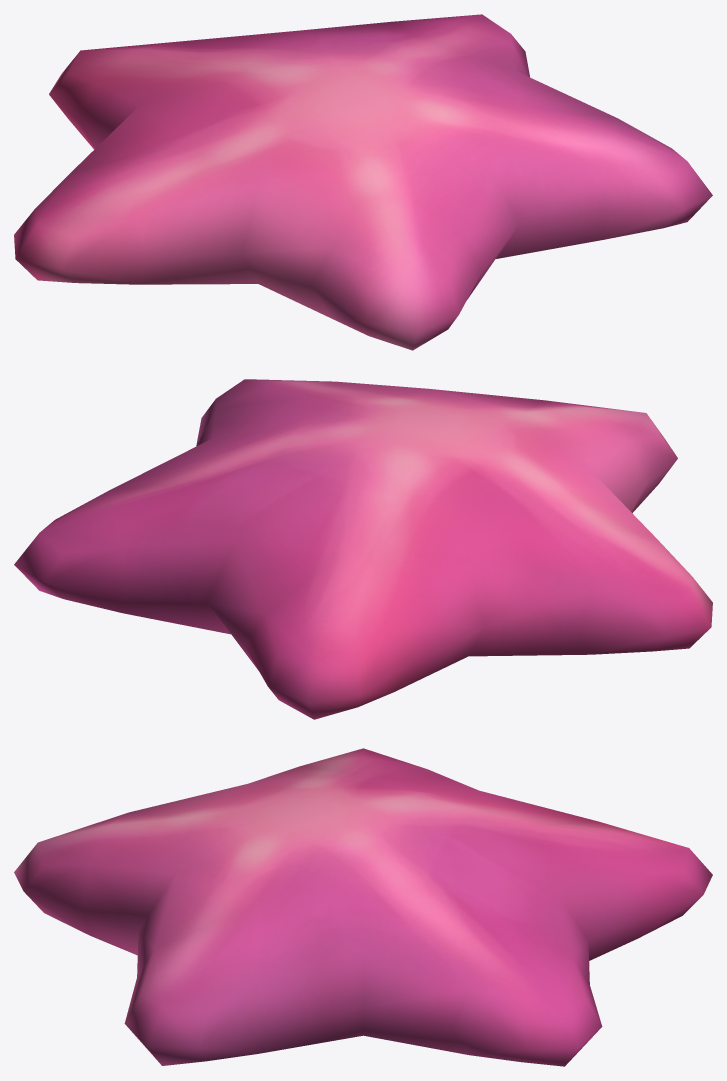
The model's file is haixing03.fbx.
3 renders of one model, top to bottom at view 1: azimuth 30°, elevation 25°; view 2: azimuth 150°, elevation 25°; view 3: azimuth 270°, elevation 25°, orthographic. The views are drawn at different scales.
Visible parts, largest first — view 1: haixing03; view 2: haixing03; view 3: haixing03.
Part boxes in pixels (box(x1,y1,x2,y2)): haixing03: box(14, 14, 712, 350); haixing03: box(14, 379, 712, 719); haixing03: box(14, 748, 712, 1066).
Bounding box in the file's own units: 3.86 × 0.8862 × 4.02.
